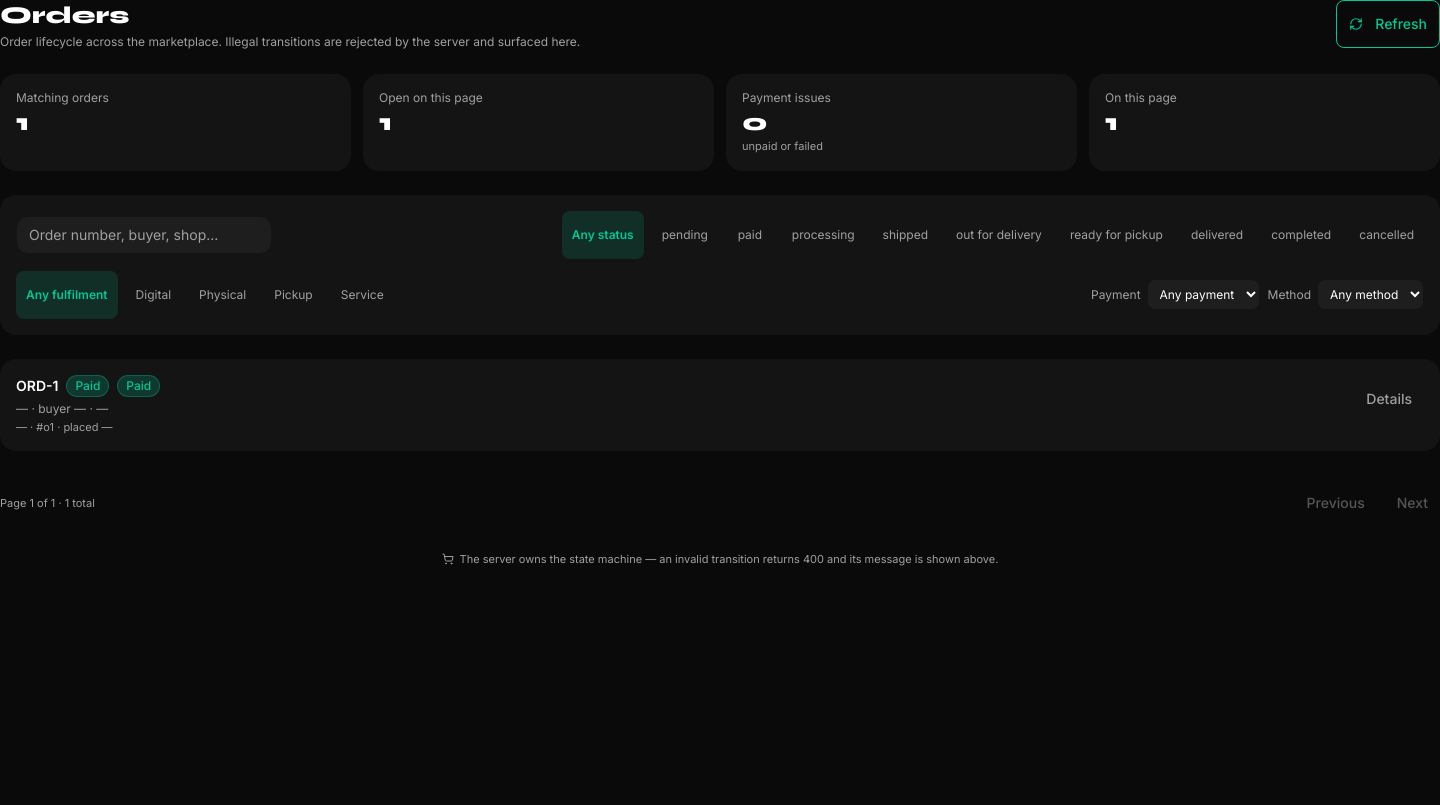
Test: AdminOrders status vocabulary › renders transitions from the server-provided allowed_next_statuses
expect the text "ORD-1" is shown: met, box [16, 376, 58, 396]
Step 1. Click the button "Details" → (1389, 398), box [1354, 374, 1424, 422]
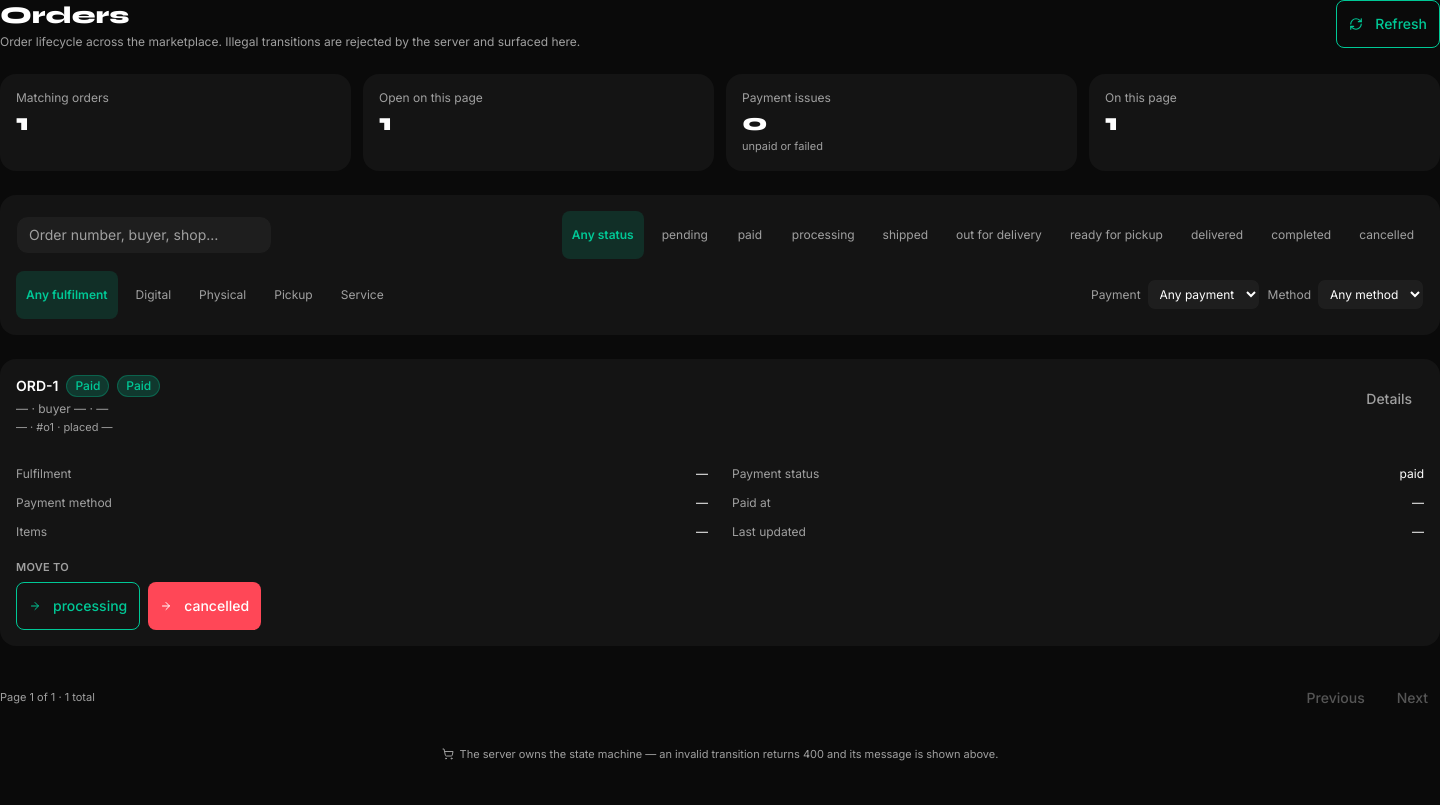
Step 2. Click the button "cancelled" below "Move to" → (205, 606), box [148, 582, 261, 630]
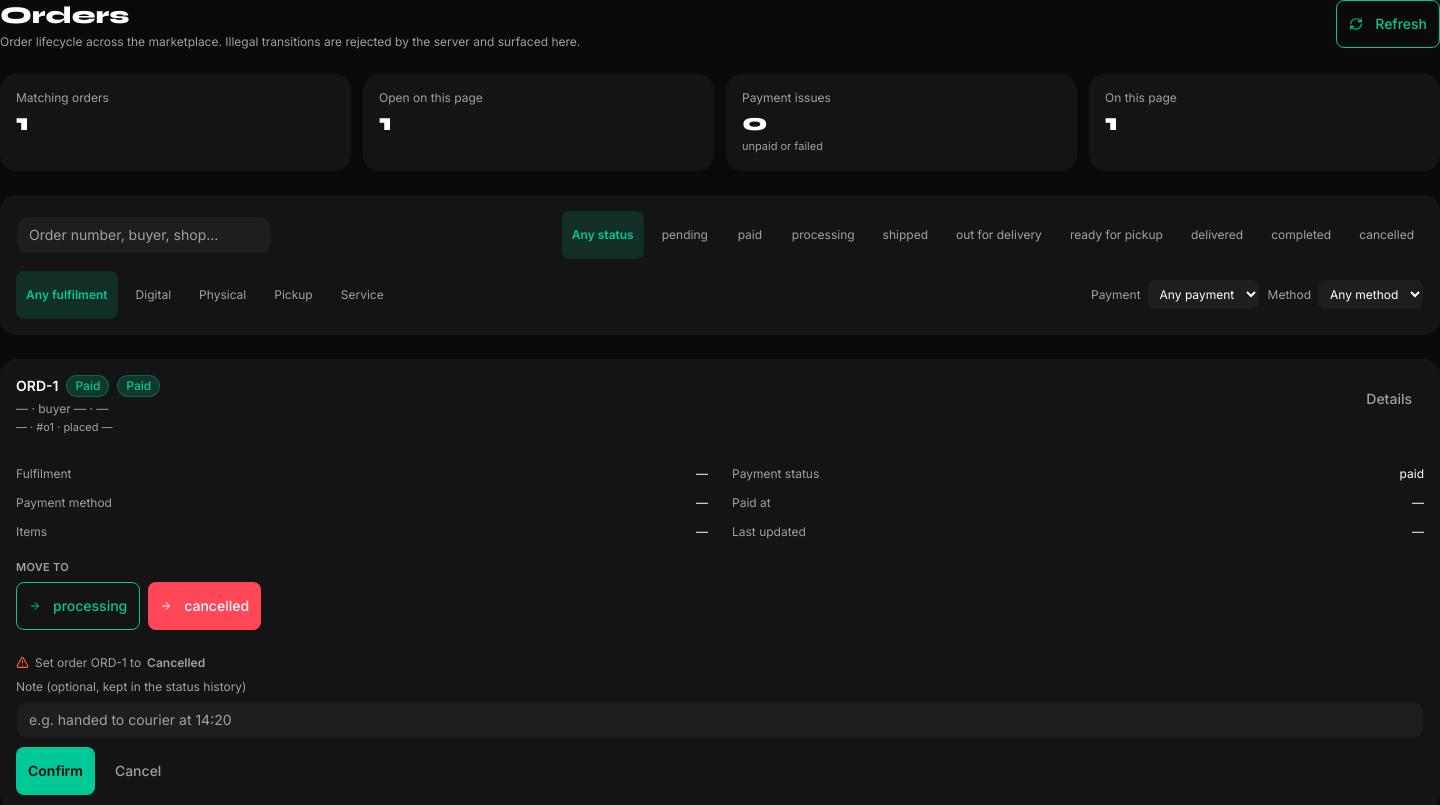
Step 3. Click the button "Confirm" → (55, 770), box [16, 746, 95, 794]
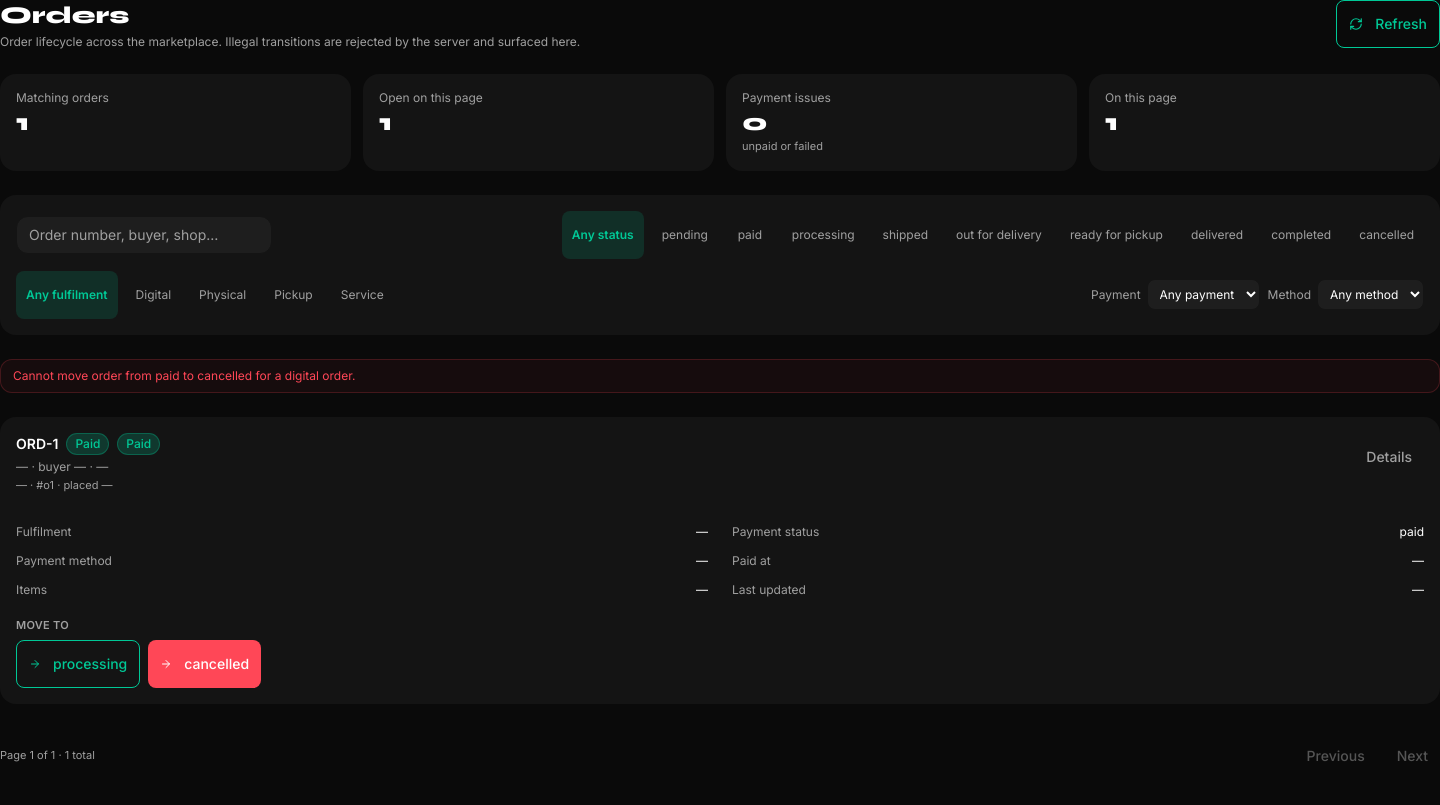
expect the text "Cannot move order from paid" is shown: met, box [13, 368, 355, 382]
